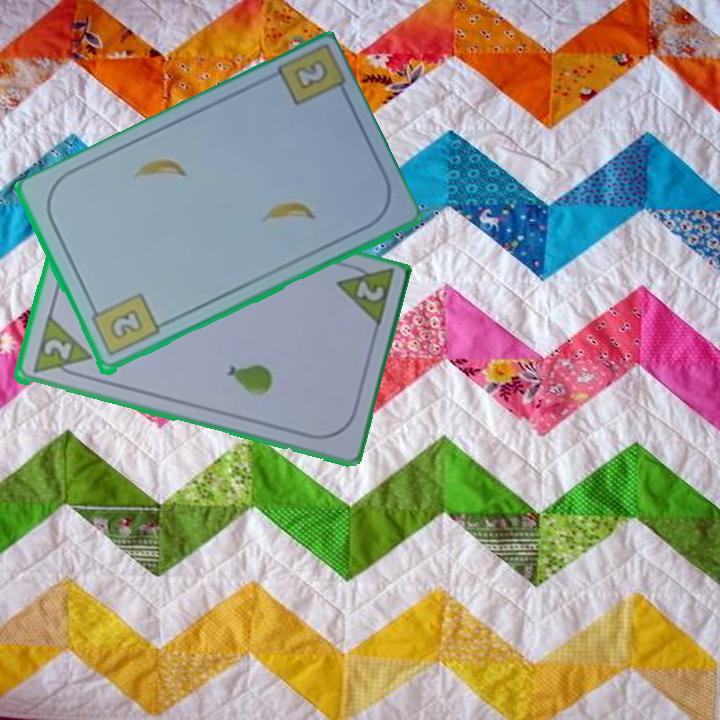2b: (86, 290, 162, 360), (290, 56, 331, 94)
2p: (331, 259, 397, 333), (28, 315, 94, 382)
